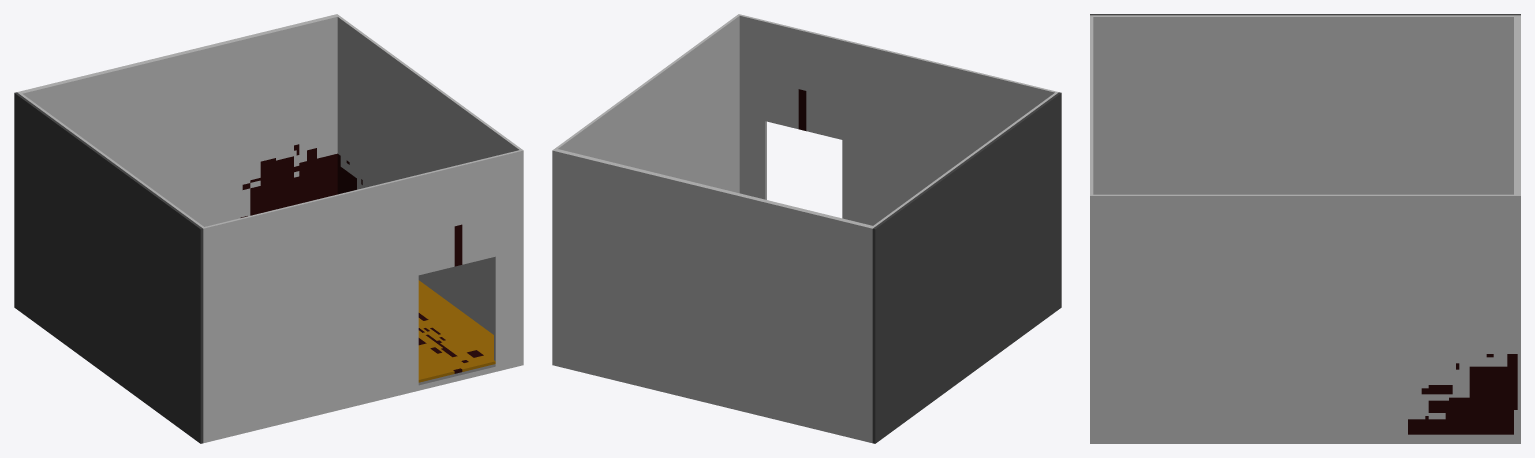
File: 4x2 fourth (1)-3.obj
The picture shows the model from 3 angles, left to right: view 1: azimuth 30°, elevation 25°; view 2: azimuth 150°, elevation 25°; view 3: azimuth 270°, elevation 25°; orthographic projection. The views are drawn at different scales.
Parts seen in each view (by area): view 1: 4x2 fourth (1)-3; view 2: 4x2 fourth (1)-3; view 3: 4x2 fourth (1)-3.
Boxes of the visible parts, box(x1,y1,x2,y2) form: 4x2 fourth (1)-3: box(14, 14, 523, 443); 4x2 fourth (1)-3: box(552, 14, 1061, 443); 4x2 fourth (1)-3: box(1090, 14, 1520, 443).
Bounding box in the file's own units: 126 × 80 × 126.
Materials: 1 (1 with a texture image).
